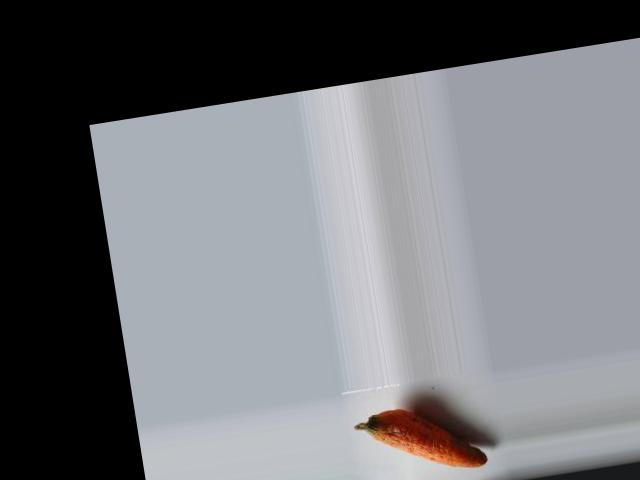carrot: (351, 390, 491, 480)
